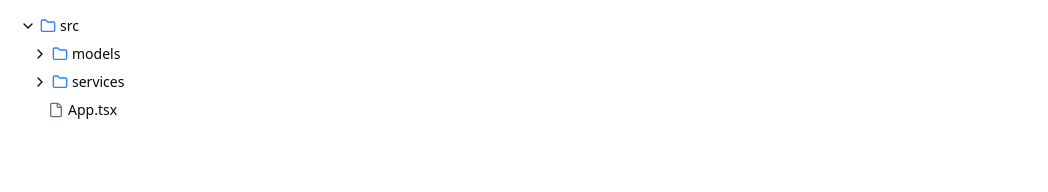
it: Integration Test: File Tree Navigation › should expand folders and show nested files when clicked
Expected: the list item with test id "file-App.tsx" is shown, [48,100,117,119]
Click on models folder to expand
Click the list item with test id "folder-models" at (96,54), box [12,40,1036,68]
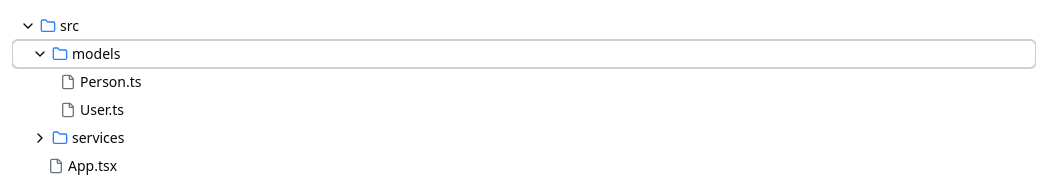
Expected: the list item with test id "file-Person.ts" is shown, [60,72,142,91]
Expected: the list item with test id "file-User.ts" is shown, [60,100,124,119]
